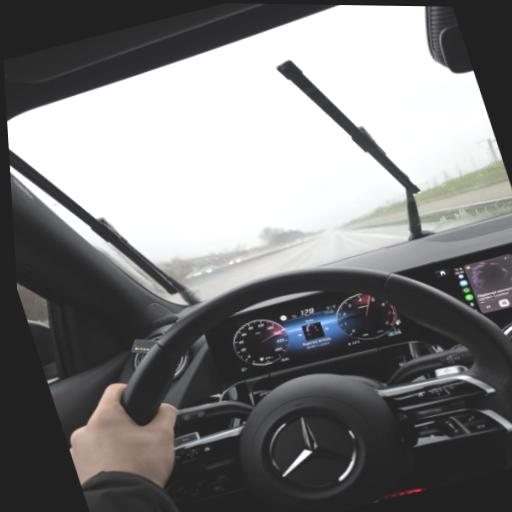Hands-on-the-Wheel: (40, 330, 217, 512)
